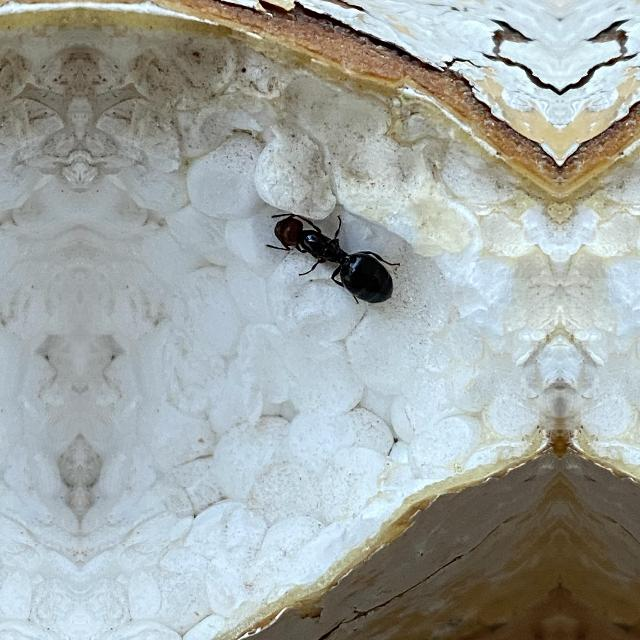Crematogaster: (260, 207, 404, 311)
